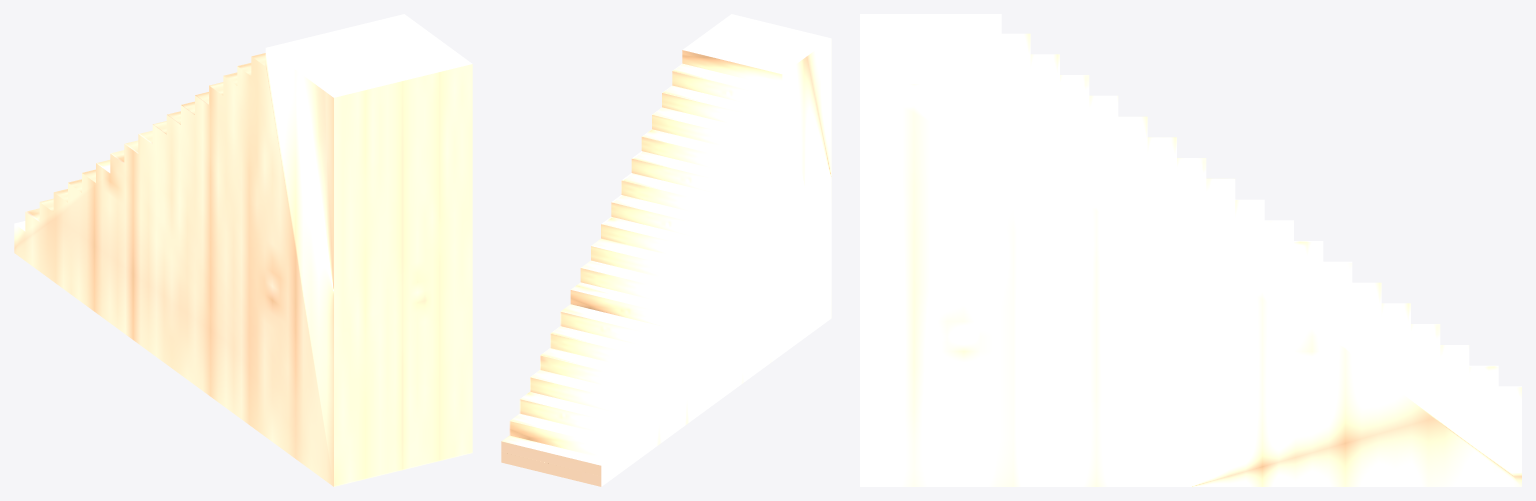
Rendered from cutepack2023stairstall 1.fbx.
The picture shows the model from 3 angles, left to right: view 1: azimuth 30°, elevation 25°; view 2: azimuth 150°, elevation 25°; view 3: azimuth 270°, elevation 25°; orthographic projection. The views are drawn at different scales.
Visible parts, largest first — view 1: Plane.008; view 2: Plane.008; view 3: Plane.008.
Boxes of the visible parts, x1,y1,x2,y2 form: Plane.008: (14,14,472,486); Plane.008: (501,14,831,486); Plane.008: (860,14,1521,486).
Bounding box in the file's own units: 181 × 485 × 723.
